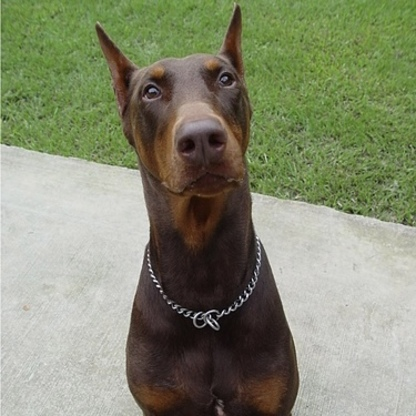doberman: (93, 13, 309, 416)
